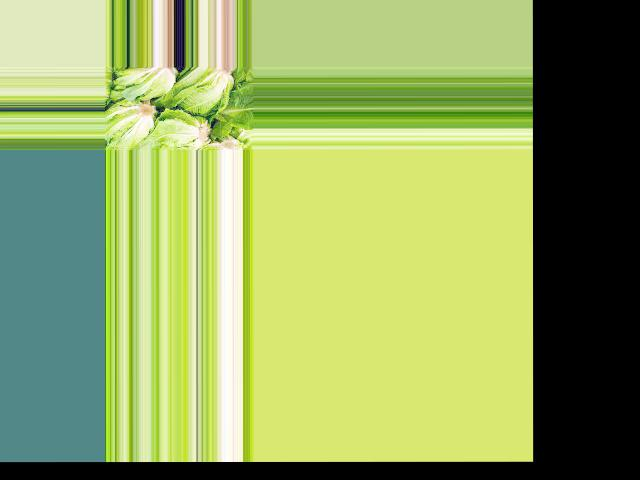lettuce: (219, 95, 254, 129)
